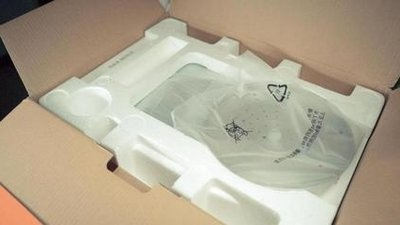5/可回收垃圾/泡沫: (38, 17, 385, 225)
